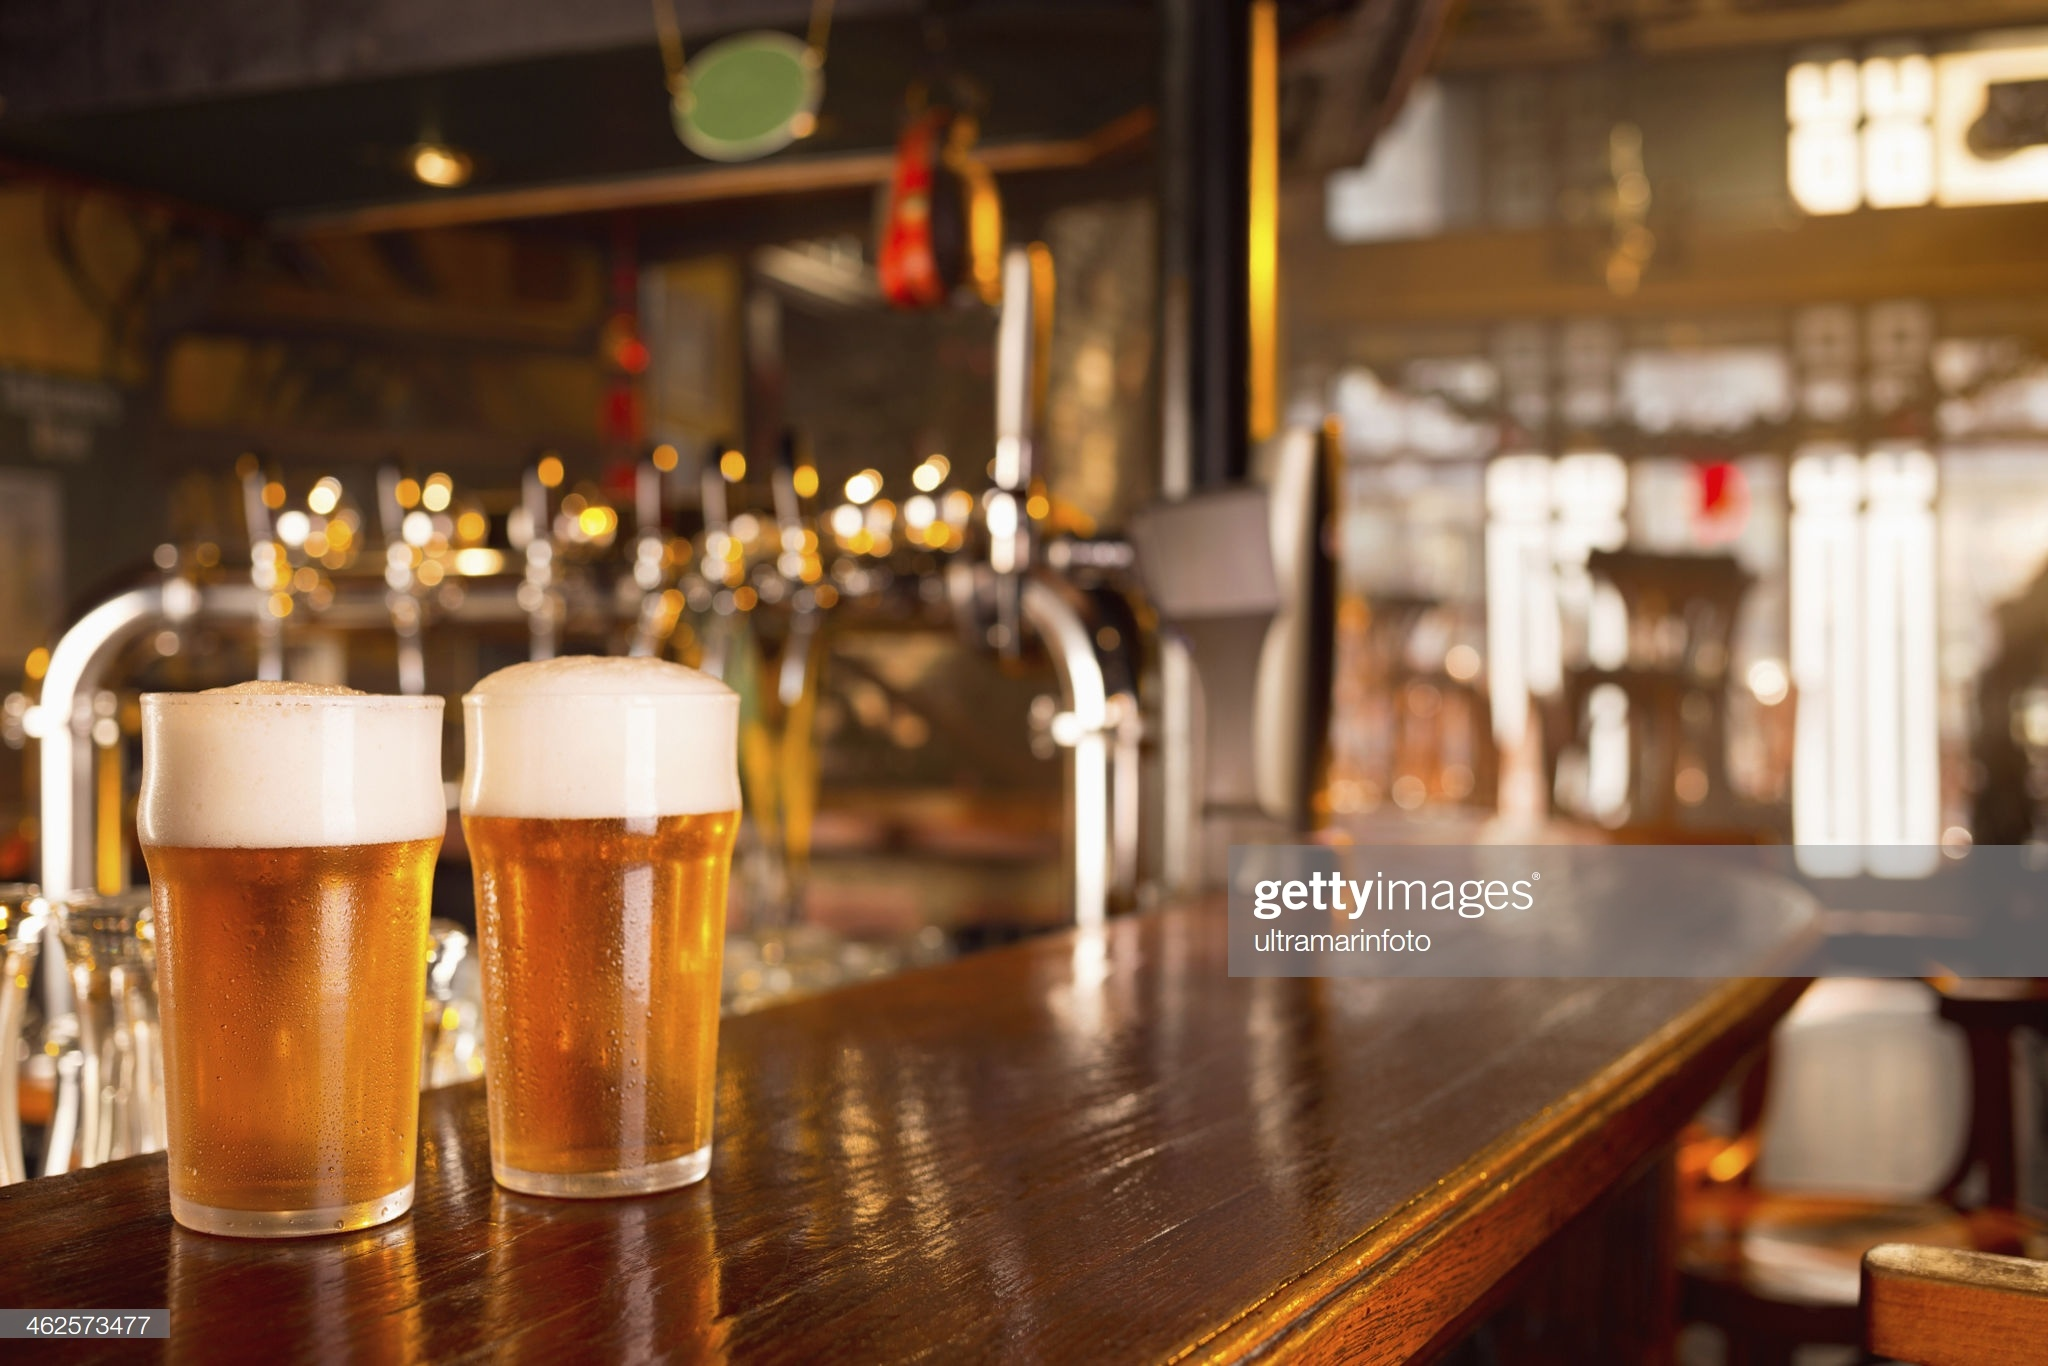glassBeer: (120, 672, 445, 1229), (459, 672, 747, 1218)
